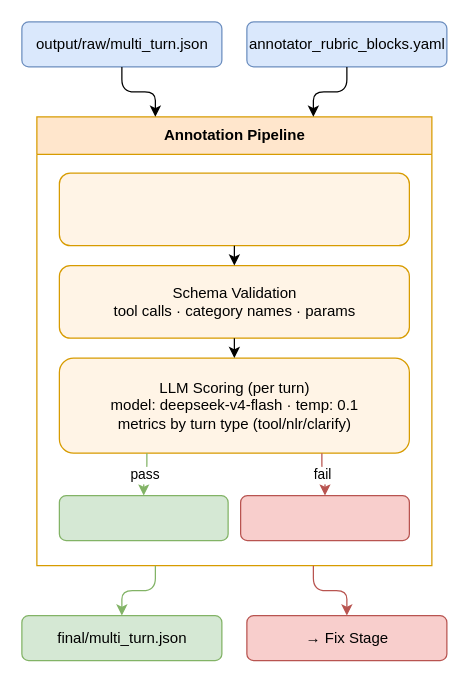
This 469x683 diagram has some shape labels left out. The box of each missing label's shape, as (x1, y1, x2, y2) in pixels:
Deduplication normalise + remove truncated: (58, 172, 409, 246)
Fail (avg < 8): (239, 494, 409, 541)
Pass (avg ≥ 8): (58, 494, 228, 541)
